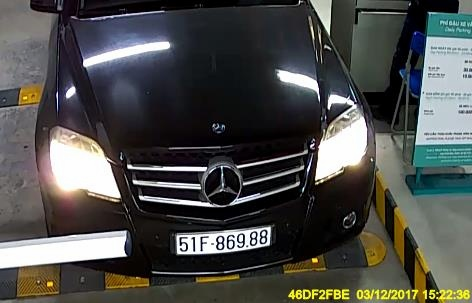plate: (170, 227, 276, 257)
